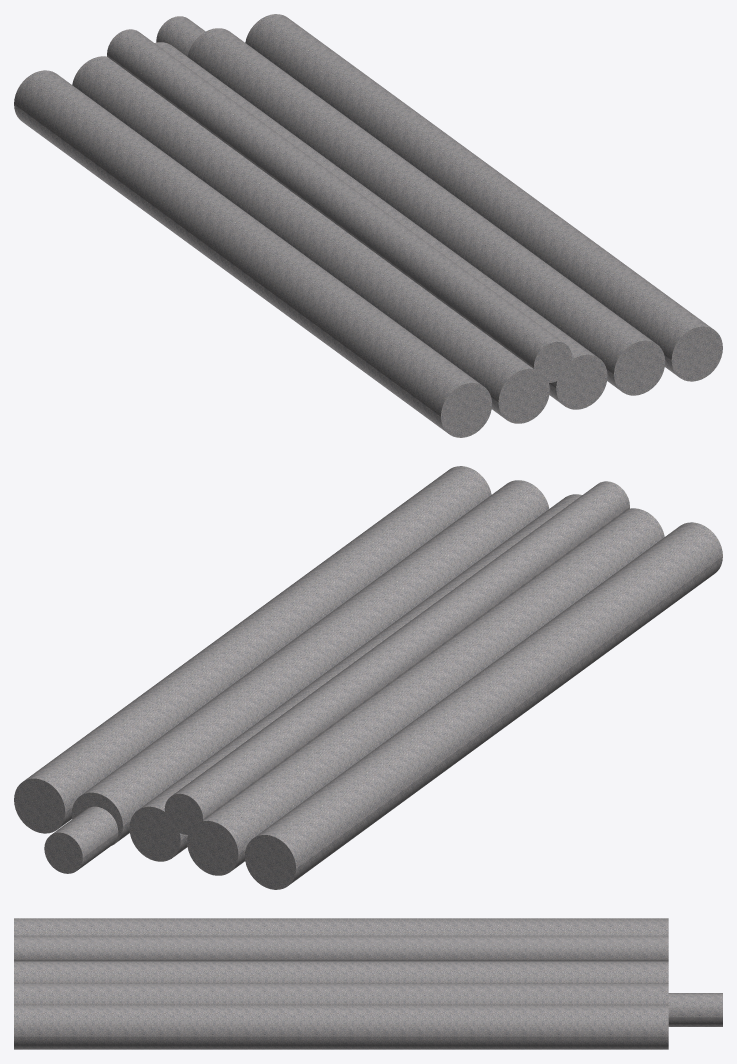
3 views of the same model, one above another, from view 1: azimuth 30°, elevation 25°; view 2: azimuth 150°, elevation 25°; view 3: azimuth 270°, elevation 25° (orthographic). The views are drawn at different scales.
Visible parts, largest first — view 1: 0_1_3_3_0_3_3_3; view 2: 0_1_3_3_0_3_3_3; view 3: 0_1_3_3_0_3_3_3.
Part boxes in pixels (bbox=[...]): 0_1_3_3_0_3_3_3: bbox=[14, 14, 722, 437]; 0_1_3_3_0_3_3_3: bbox=[14, 466, 722, 889]; 0_1_3_3_0_3_3_3: bbox=[14, 918, 722, 1049].
Size of the model in its own units: 4.4 by 1.1 by 12.49.
7 materials, 7 textured.
